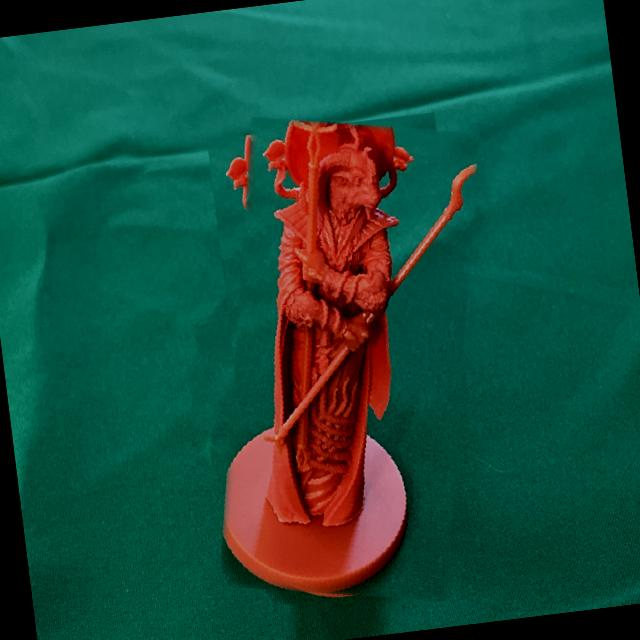amon: (185, 101, 513, 617)
